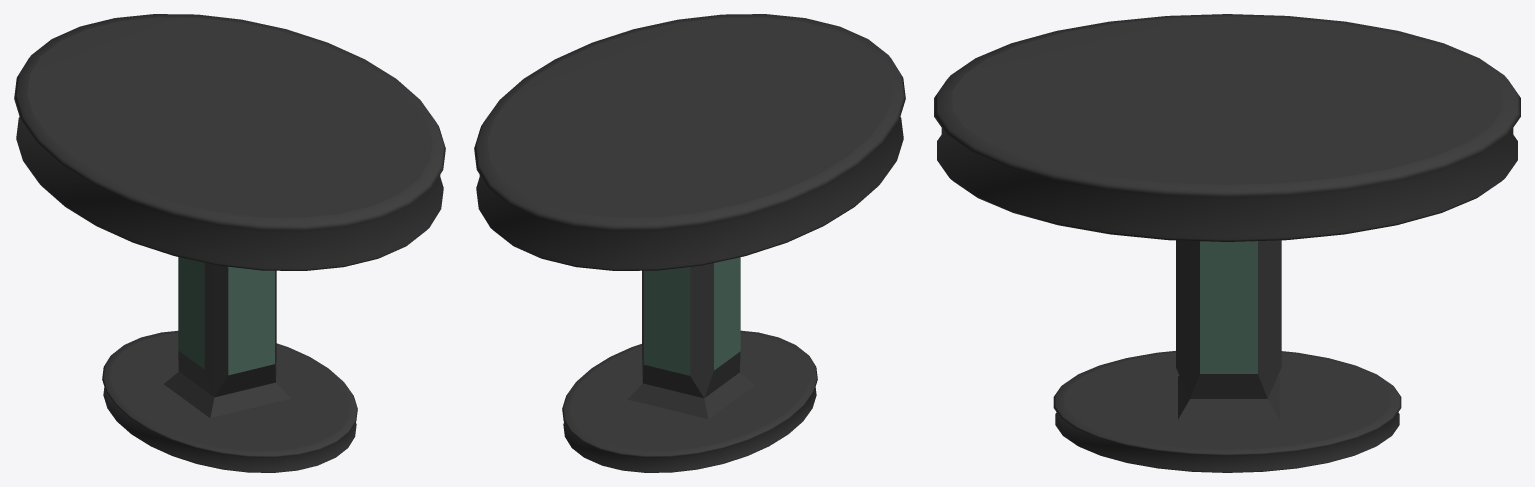
The model's file is Table.fbx.
3 renders of one model, left to right at view 1: azimuth 30°, elevation 25°; view 2: azimuth 150°, elevation 25°; view 3: azimuth 270°, elevation 25°, orthographic. The views are drawn at different scales.
Visible parts, largest first — view 1: Table:Table1; view 2: Table:Table1; view 3: Table:Table1.
Part boxes in pixels (left/top/right/bottom): Table:Table1: left=14, top=14, right=445, bottom=472; Table:Table1: left=474, top=14, right=905, bottom=472; Table:Table1: left=934, top=14, right=1520, bottom=472.
Size of the model in its own units: 85.17 by 71.24 by 118.
